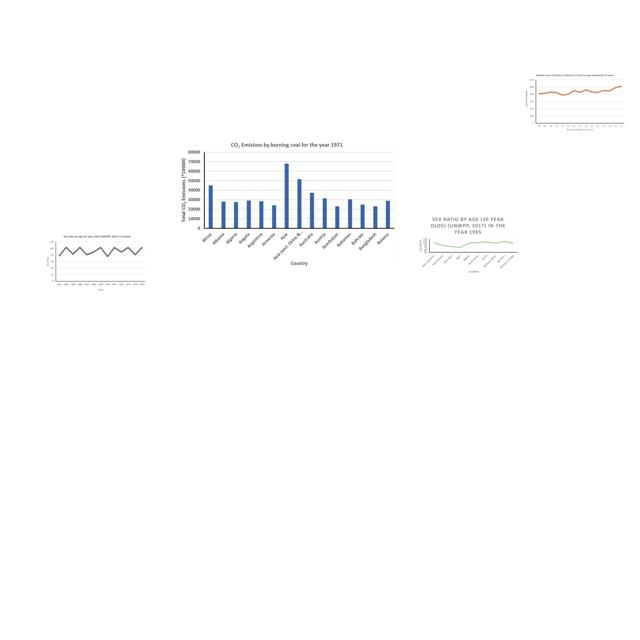Graph: (180, 140, 396, 267), (44, 232, 150, 293), (523, 72, 627, 134), (417, 215, 519, 274)
